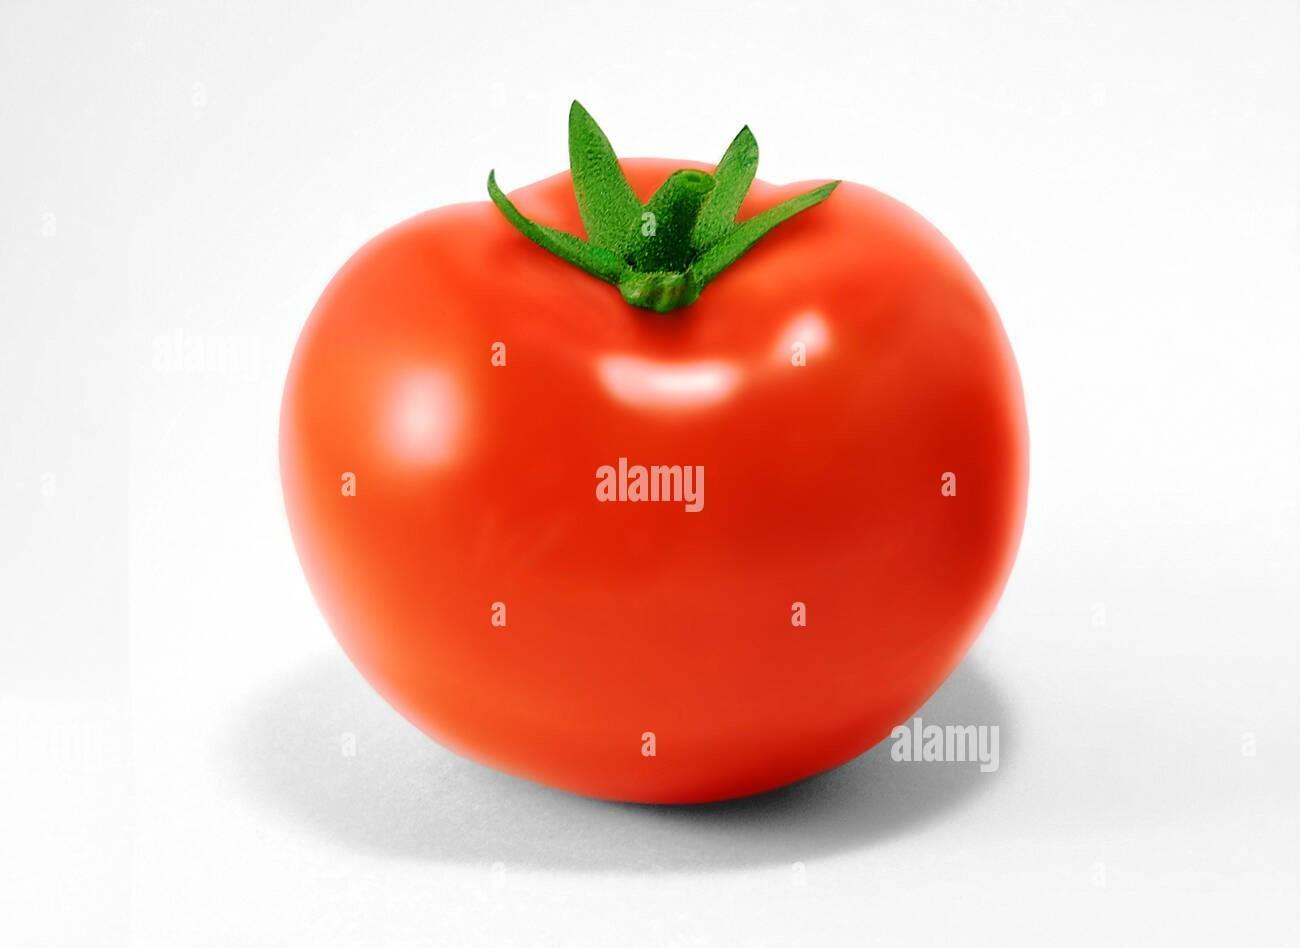healthy-tomato: (275, 107, 1038, 813)
